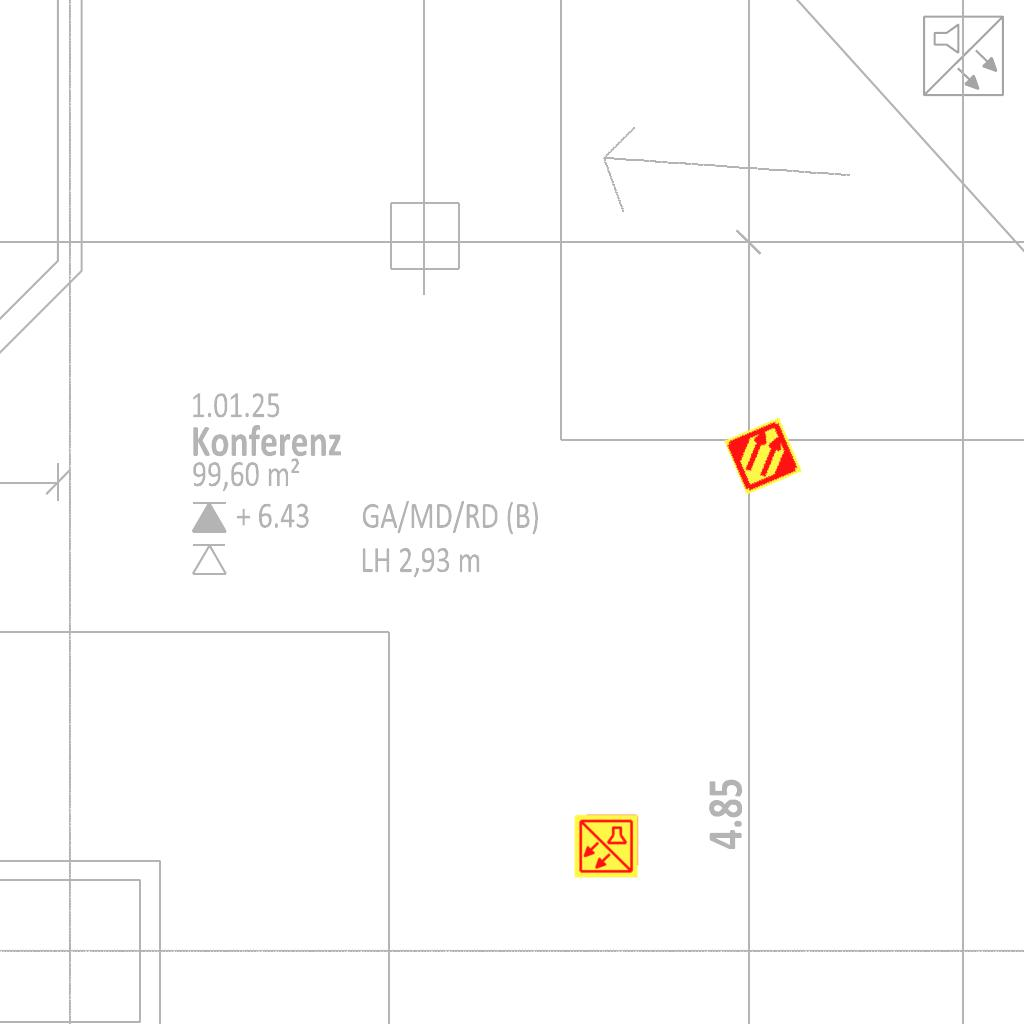ASR_Ansaugrauchmelder: (722, 415, 804, 497)
OKW_Multisensormelder_(Kombination_optischer_Rauch-Kahlenmonoxid_Waerme-Melder): (573, 813, 639, 879)
